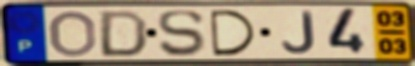4: (326, 6, 374, 58)
D: (97, 8, 151, 58), (207, 9, 259, 58)
J: (280, 10, 318, 55)
O: (48, 9, 99, 59)
S: (155, 8, 207, 58)
